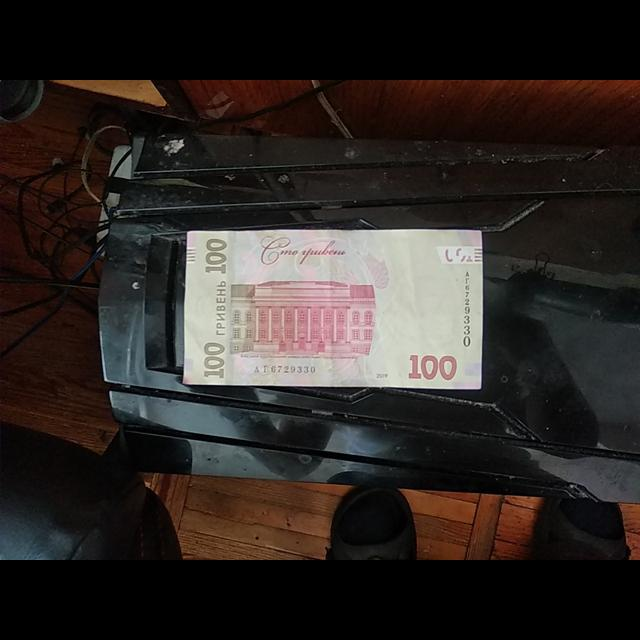100uah: (186, 234, 482, 388)
